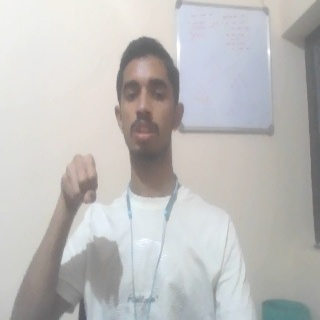Face: (112, 37, 186, 165)
Yes: (59, 153, 101, 209)
